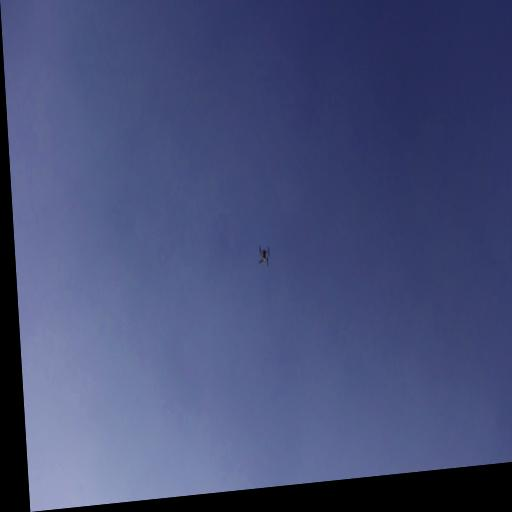drones: (256, 244, 272, 269)
